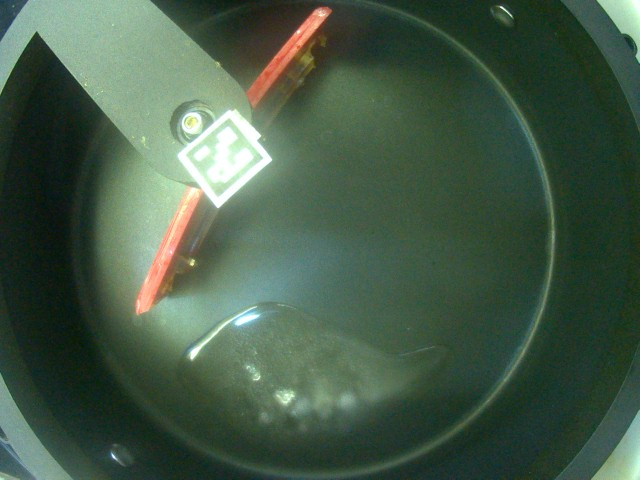stirrer: (25, 3, 293, 211)
